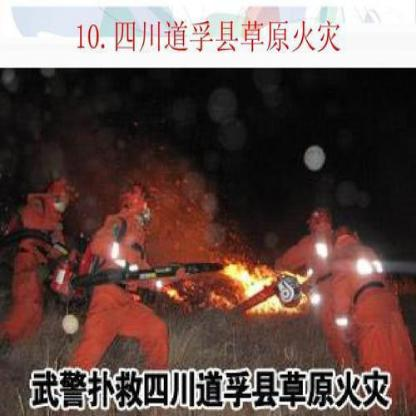fire: (223, 250, 312, 318)
other: (13, 176, 188, 365), (290, 214, 407, 396), (70, 18, 337, 52)
